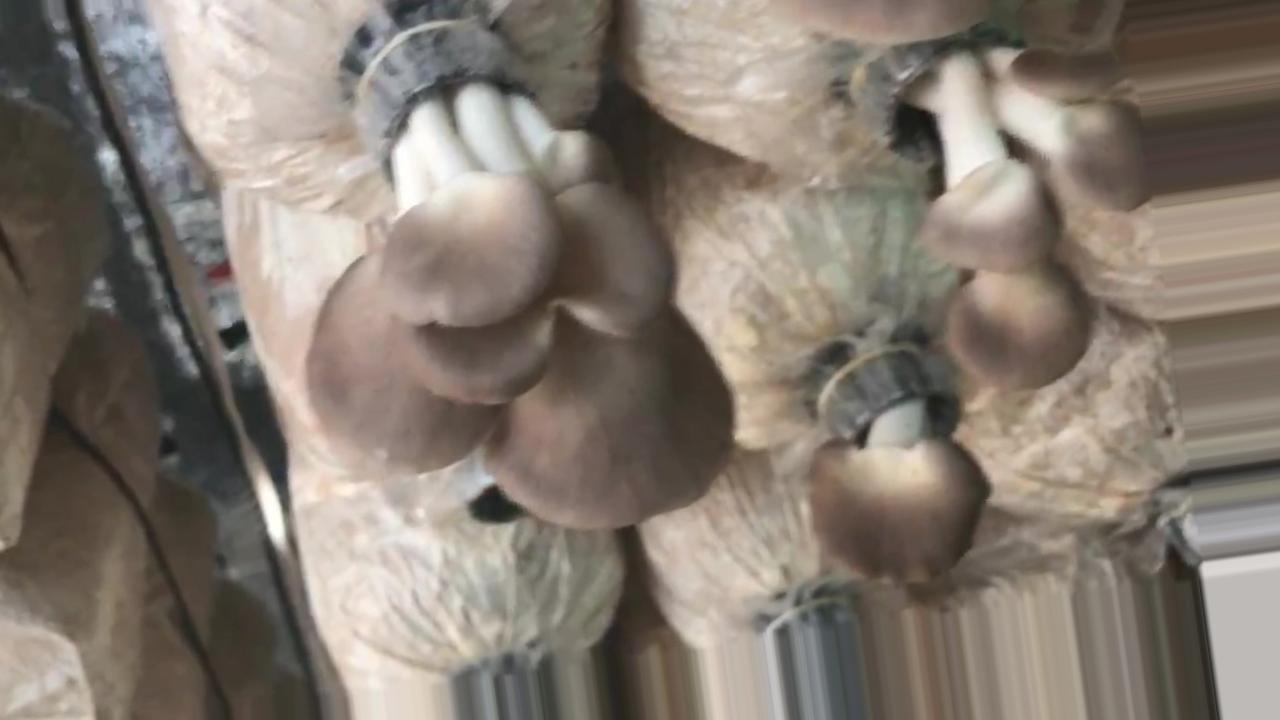nam: (310, 20, 734, 524), (849, 45, 1280, 388), (804, 352, 995, 592)
